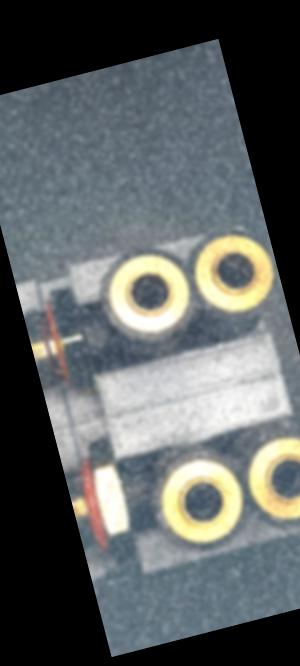bump: (150, 496, 167, 520), (158, 469, 173, 483)
off-centered: (126, 271, 174, 315), (215, 255, 257, 293)
white mark: (125, 496, 136, 509)
